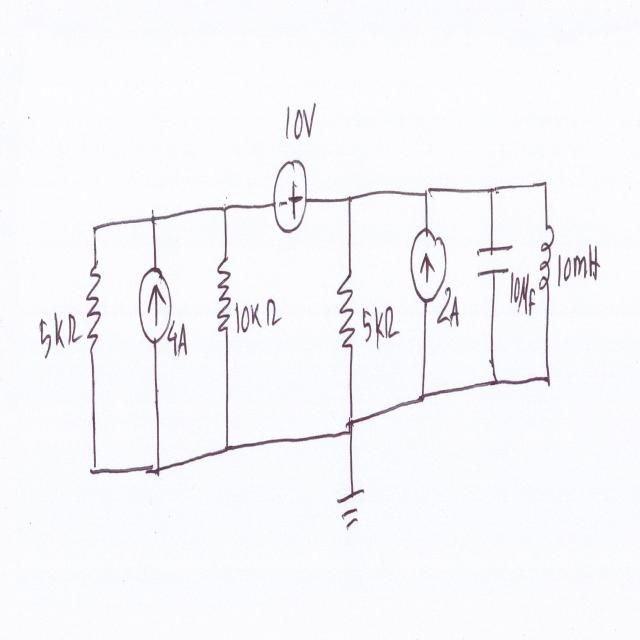current_source: (136, 267, 173, 349), (410, 228, 448, 306)
resistor: (331, 266, 356, 368), (85, 257, 104, 363), (214, 246, 232, 354)
voltage_source: (271, 150, 311, 244)
